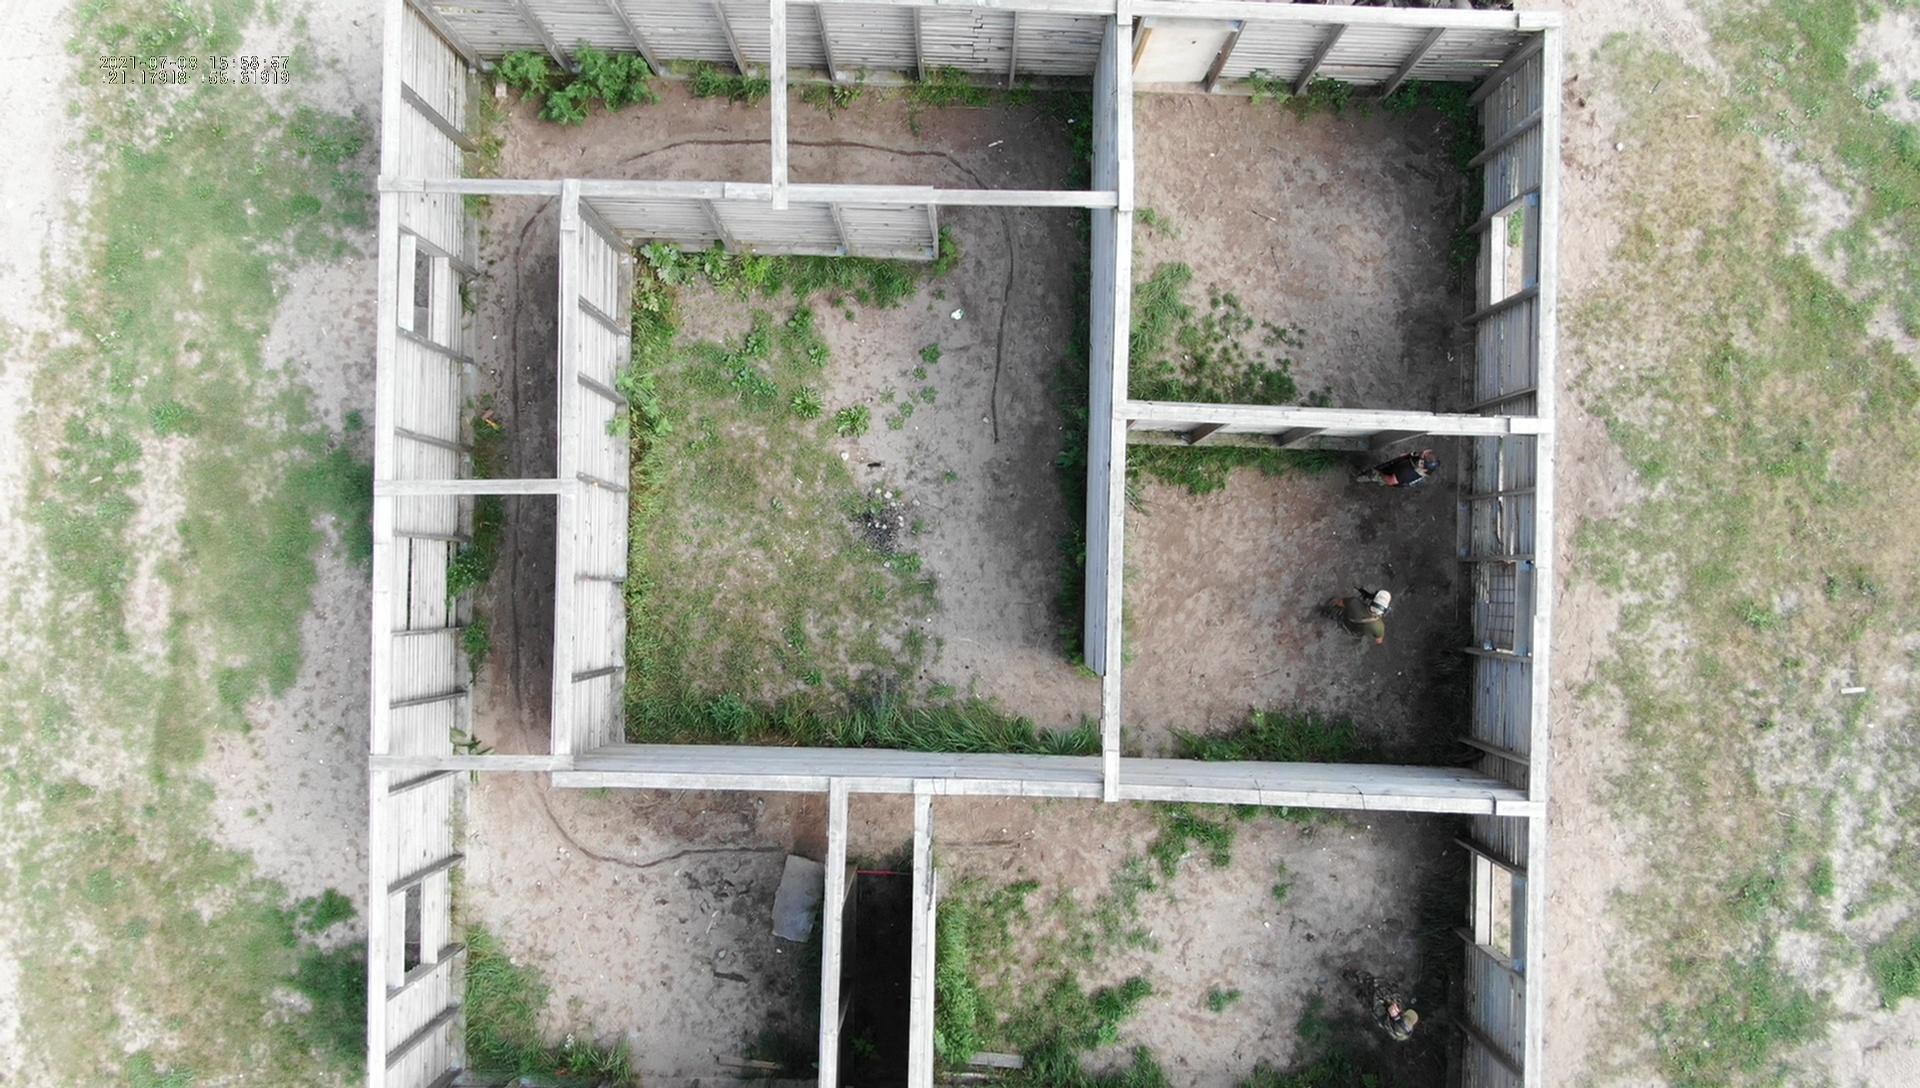Soldier: (1357, 427, 1445, 516), (1321, 570, 1403, 651), (1349, 965, 1428, 1047)
